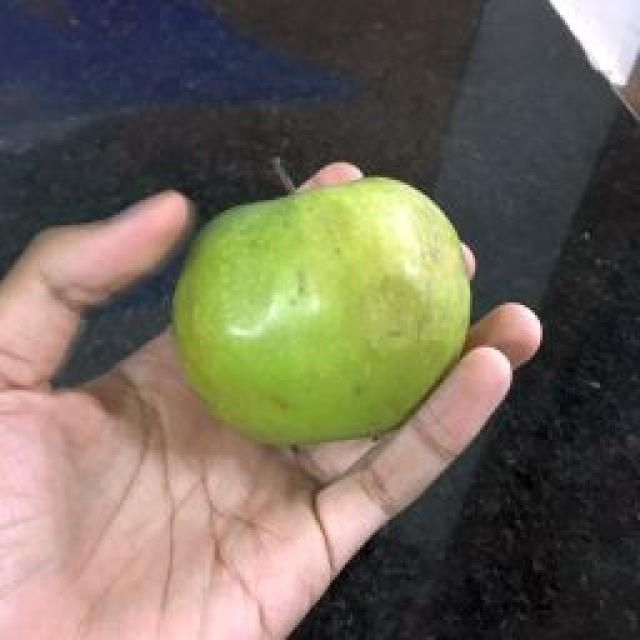Good_Apple: (170, 178, 472, 450)
